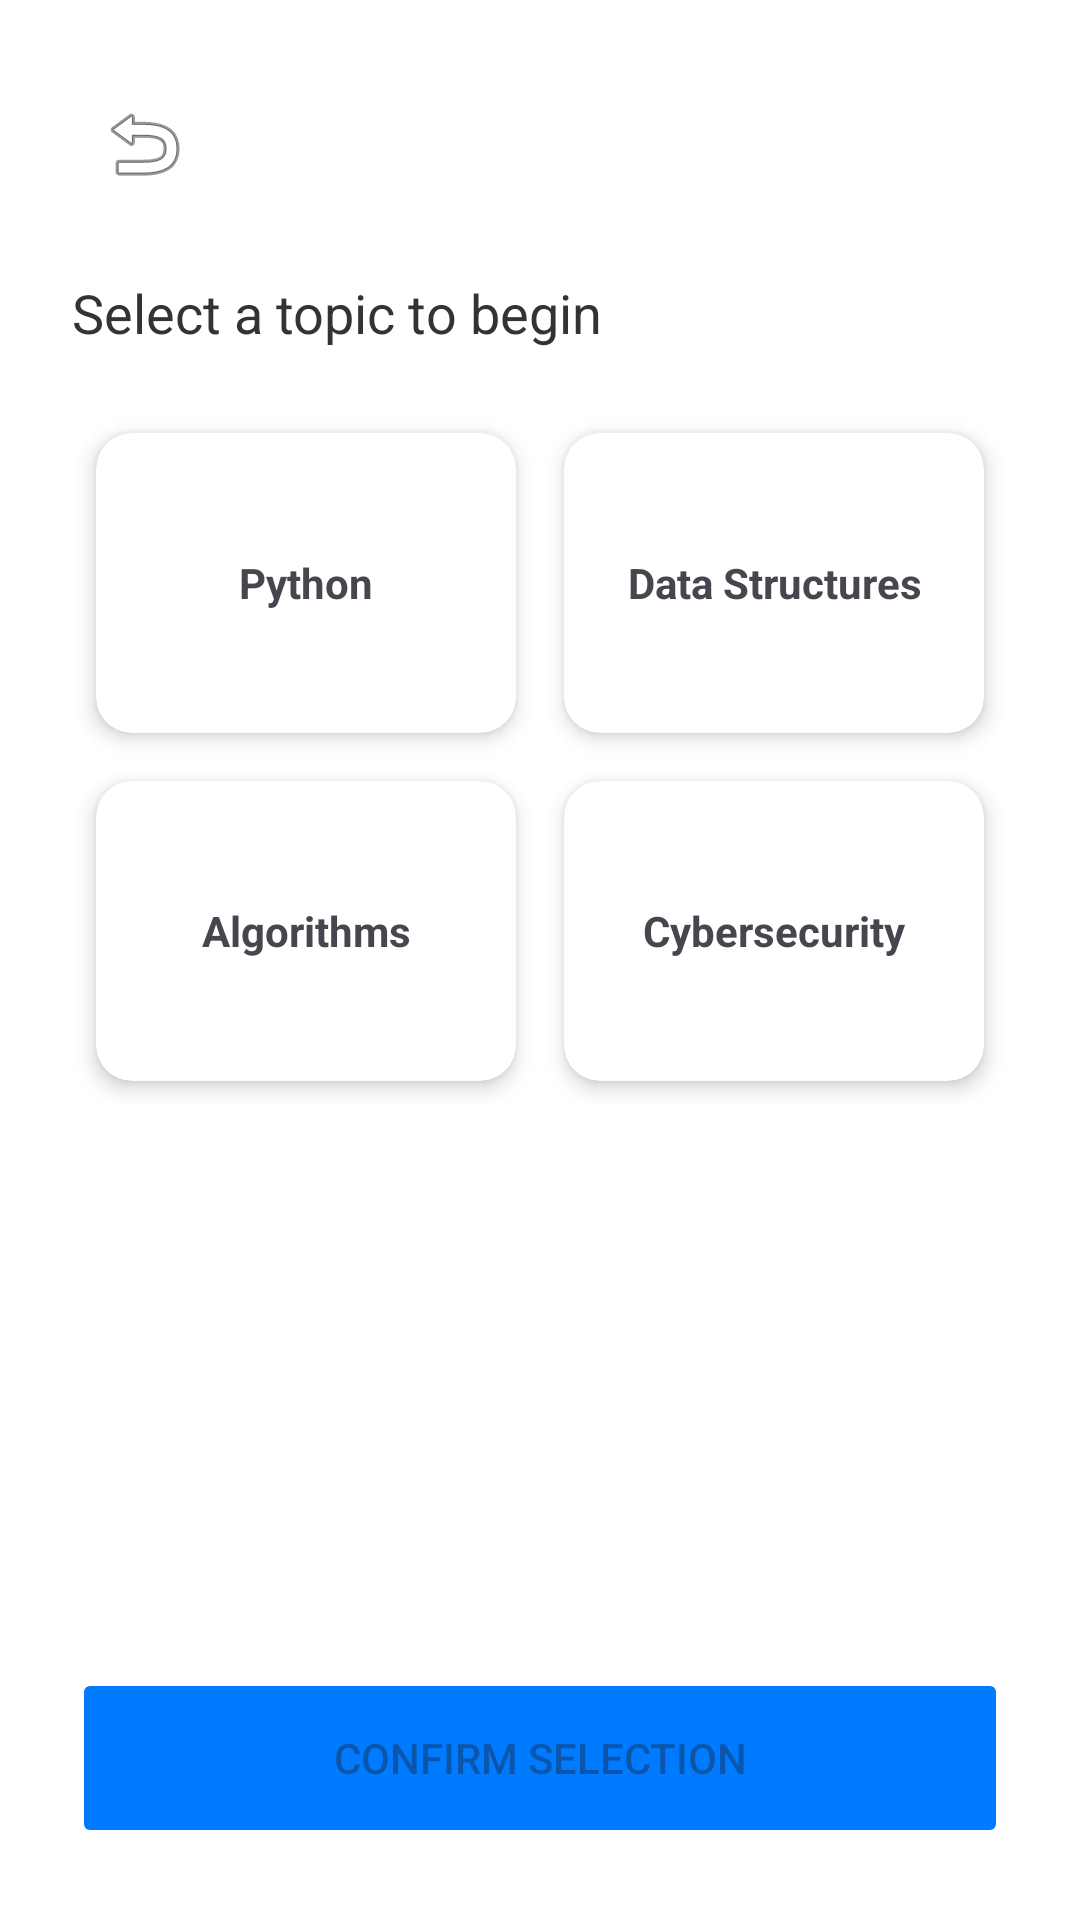

Named icons in this screenshot (1080×1920) and their centers, (x=x, y=y):
Back to previous screen: (x=145, y=144)
